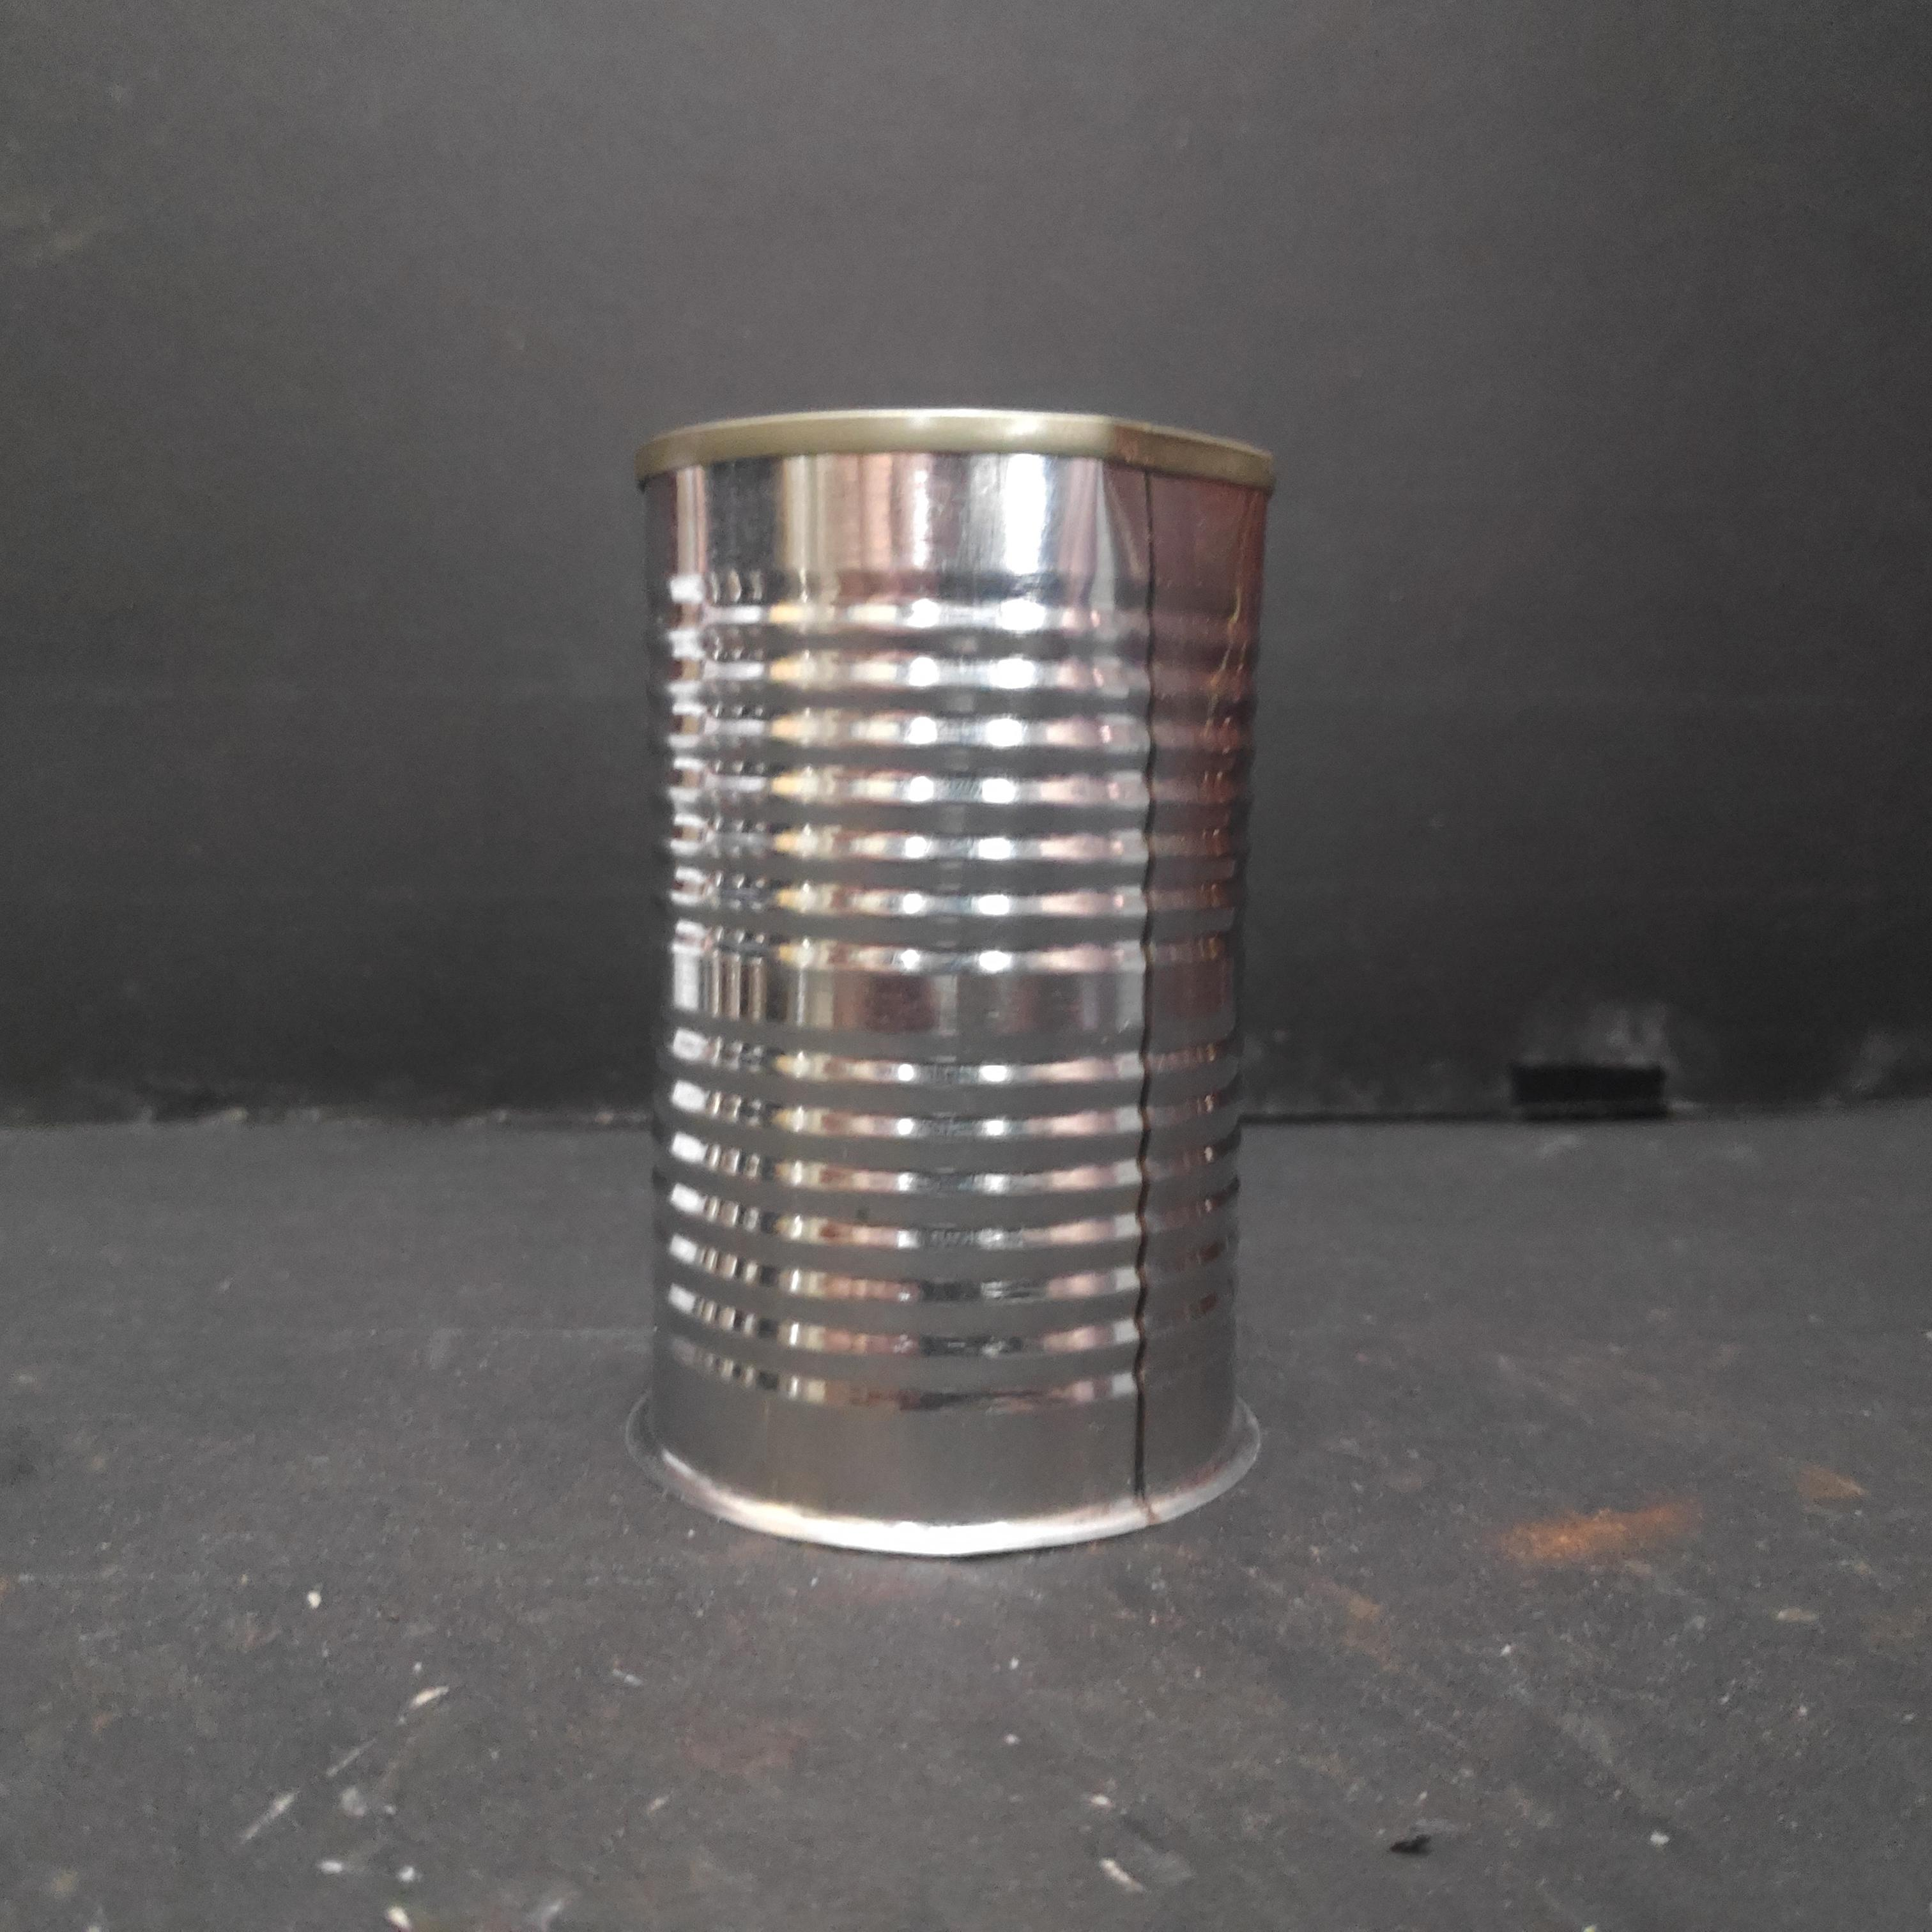Minor Defect: (627, 390, 1287, 1558)
